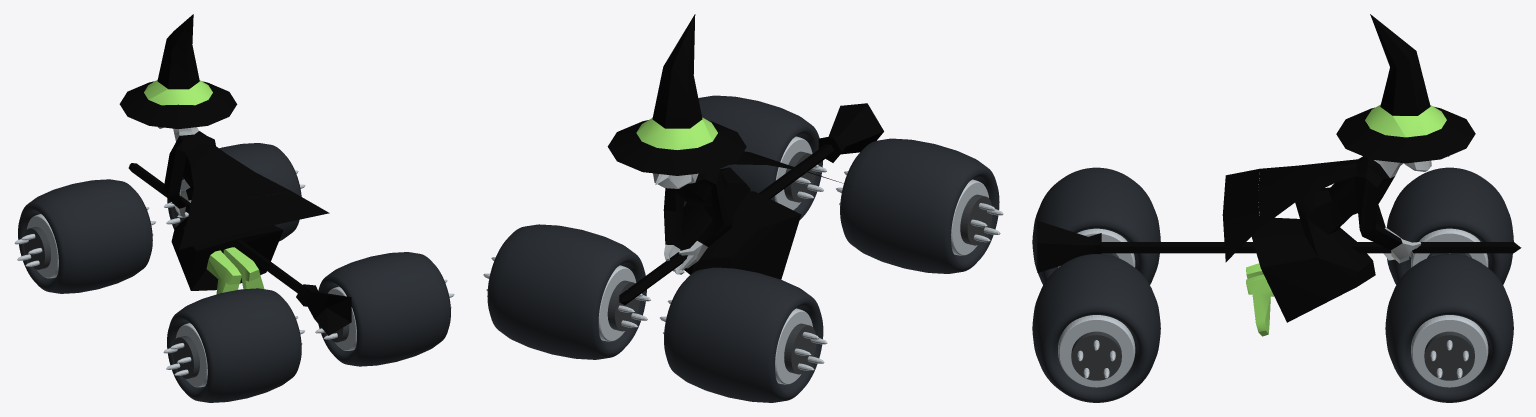
File: car-witchcar.glb
3 renders of one model, left to right at view 1: azimuth 30°, elevation 25°; view 2: azimuth 150°, elevation 25°; view 3: azimuth 270°, elevation 25°, orthographic. The views are drawn at different scales.
Visible parts, largest first — view 1: witchcarShape, witchcar wheel assembly.002, witchcar wheel assembly.001, witchcar wheel assembly, witchcar wheel assembly.003; view 2: witchcarShape, witchcar wheel assembly.001, witchcar wheel assembly.002, witchcar wheel assembly.003, witchcar wheel assembly; view 3: witchcarShape, witchcar wheel assembly.003, witchcar wheel assembly, witchcar wheel assembly.002, witchcar wheel assembly.001.
Part boxes in pixels (left/top/right/bottom): witchcarShape: left=119, top=14, right=351, bottom=335; witchcar wheel assembly.002: left=14, top=179, right=155, bottom=293; witchcar wheel assembly.001: left=163, top=288, right=304, bottom=402; witchcar wheel assembly: left=315, top=252, right=454, bottom=366; witchcar wheel assembly.003: left=163, top=143, right=305, bottom=241; witchcarShape: left=607, top=14, right=883, bottom=304; witchcar wheel assembly.001: left=836, top=138, right=1003, bottom=273; witchcar wheel assembly.002: left=660, top=267, right=827, bottom=402; witchcar wheel assembly.003: left=483, top=224, right=650, bottom=359; witchcar wheel assembly: left=684, top=95, right=826, bottom=219; witchcarShape: left=1037, top=14, right=1521, bottom=336; witchcar wheel assembly.003: left=1385, top=254, right=1513, bottom=402; witchcar wheel assembly: left=1032, top=254, right=1160, bottom=402; witchcar wheel assembly.002: left=1386, top=167, right=1513, bottom=284; witchcar wheel assembly.001: left=1032, top=167, right=1160, bottom=284.
Size of the model in its own units: 1.86 by 1.78 by 2.4.
Materials: 4 (1 with a texture image).
